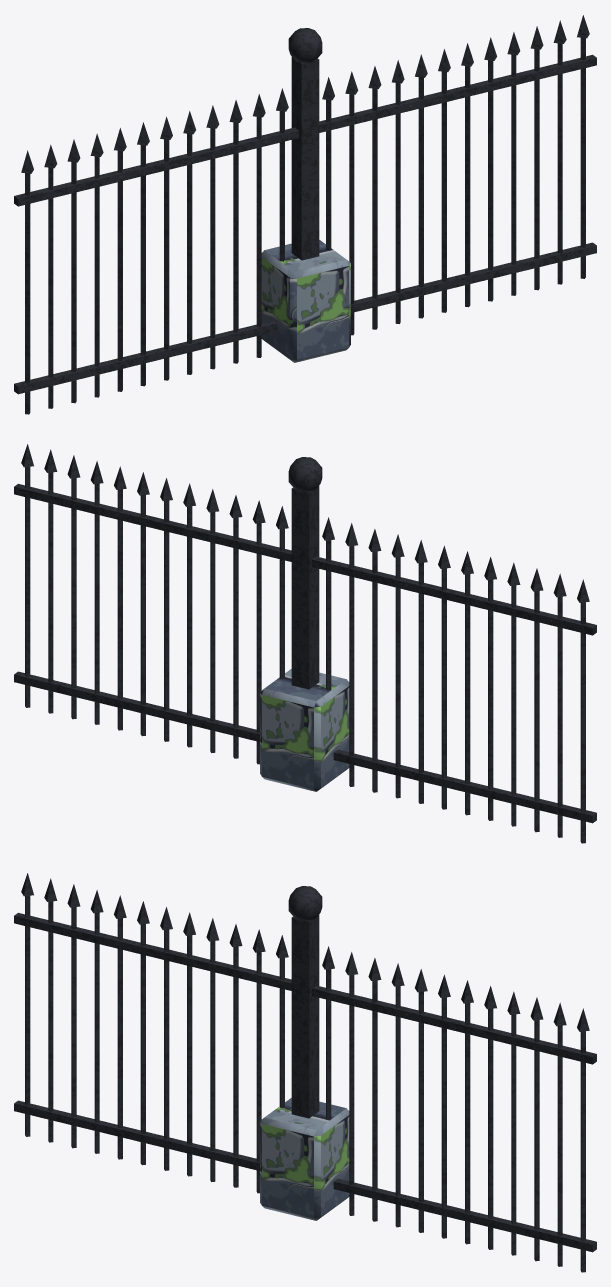
The model's file is iron_fence_straight.glb.
3 views of the same model, one above another, from view 1: azimuth 30°, elevation 25°; view 2: azimuth 150°, elevation 25°; view 3: azimuth 330°, elevation 25° (orthographic).
Parts seen in each view (by area): view 1: Fence; view 2: Fence; view 3: Fence.
Boxes of the visible parts, x1,y1,x2,y2 form: Fence: [14, 15, 596, 414]; Fence: [14, 444, 596, 843]; Fence: [14, 873, 596, 1272].
Size of the model in its own units: 4 by 2.09 by 0.42.
Materials: 2 (2 with a texture image).
